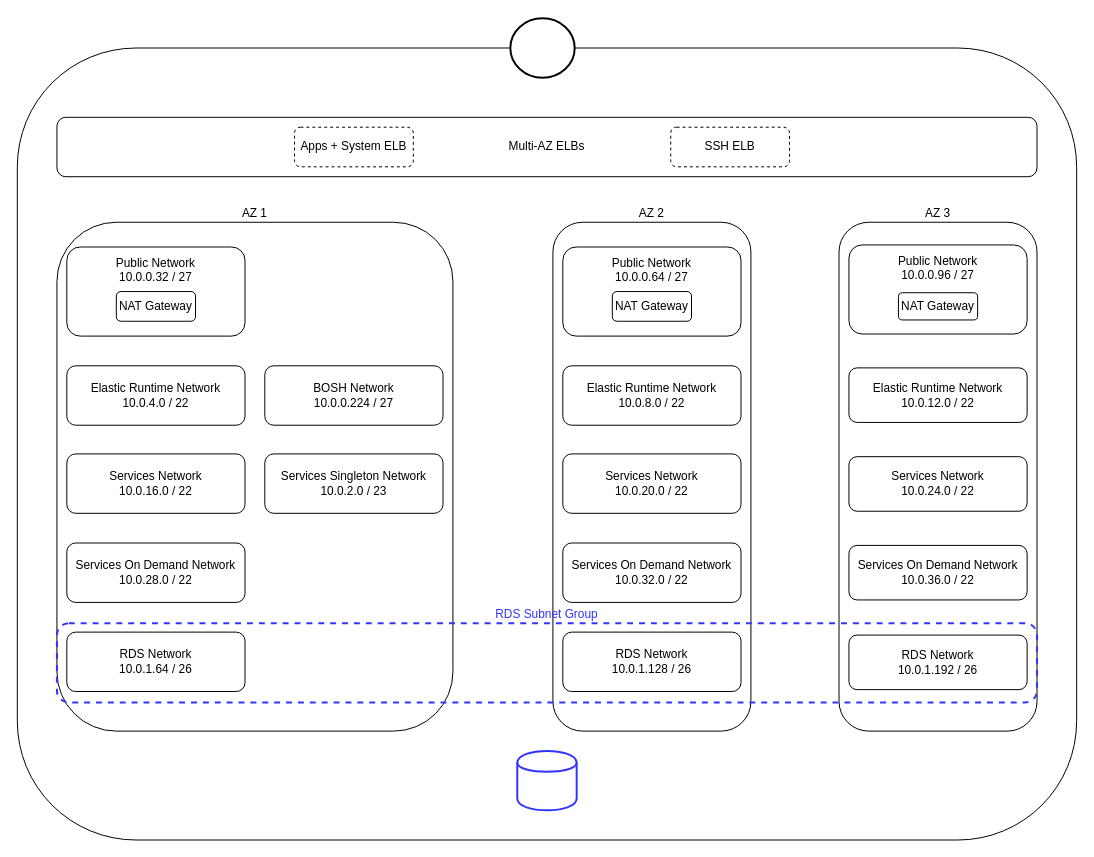
This 1094x857 diagram has some shape labels left out. Each missing label, with the centre of its shape:
Internet Gateway: the point at 542,47
RDS Database: the point at 546,780
